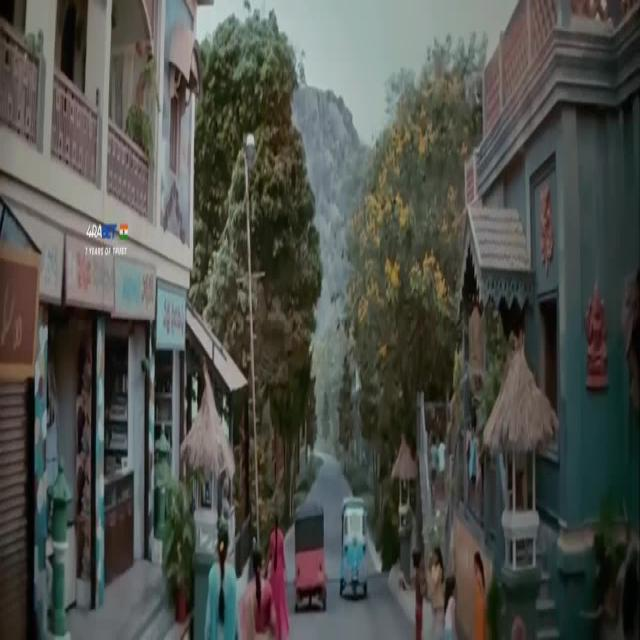4rabet: (79, 205, 142, 291)
